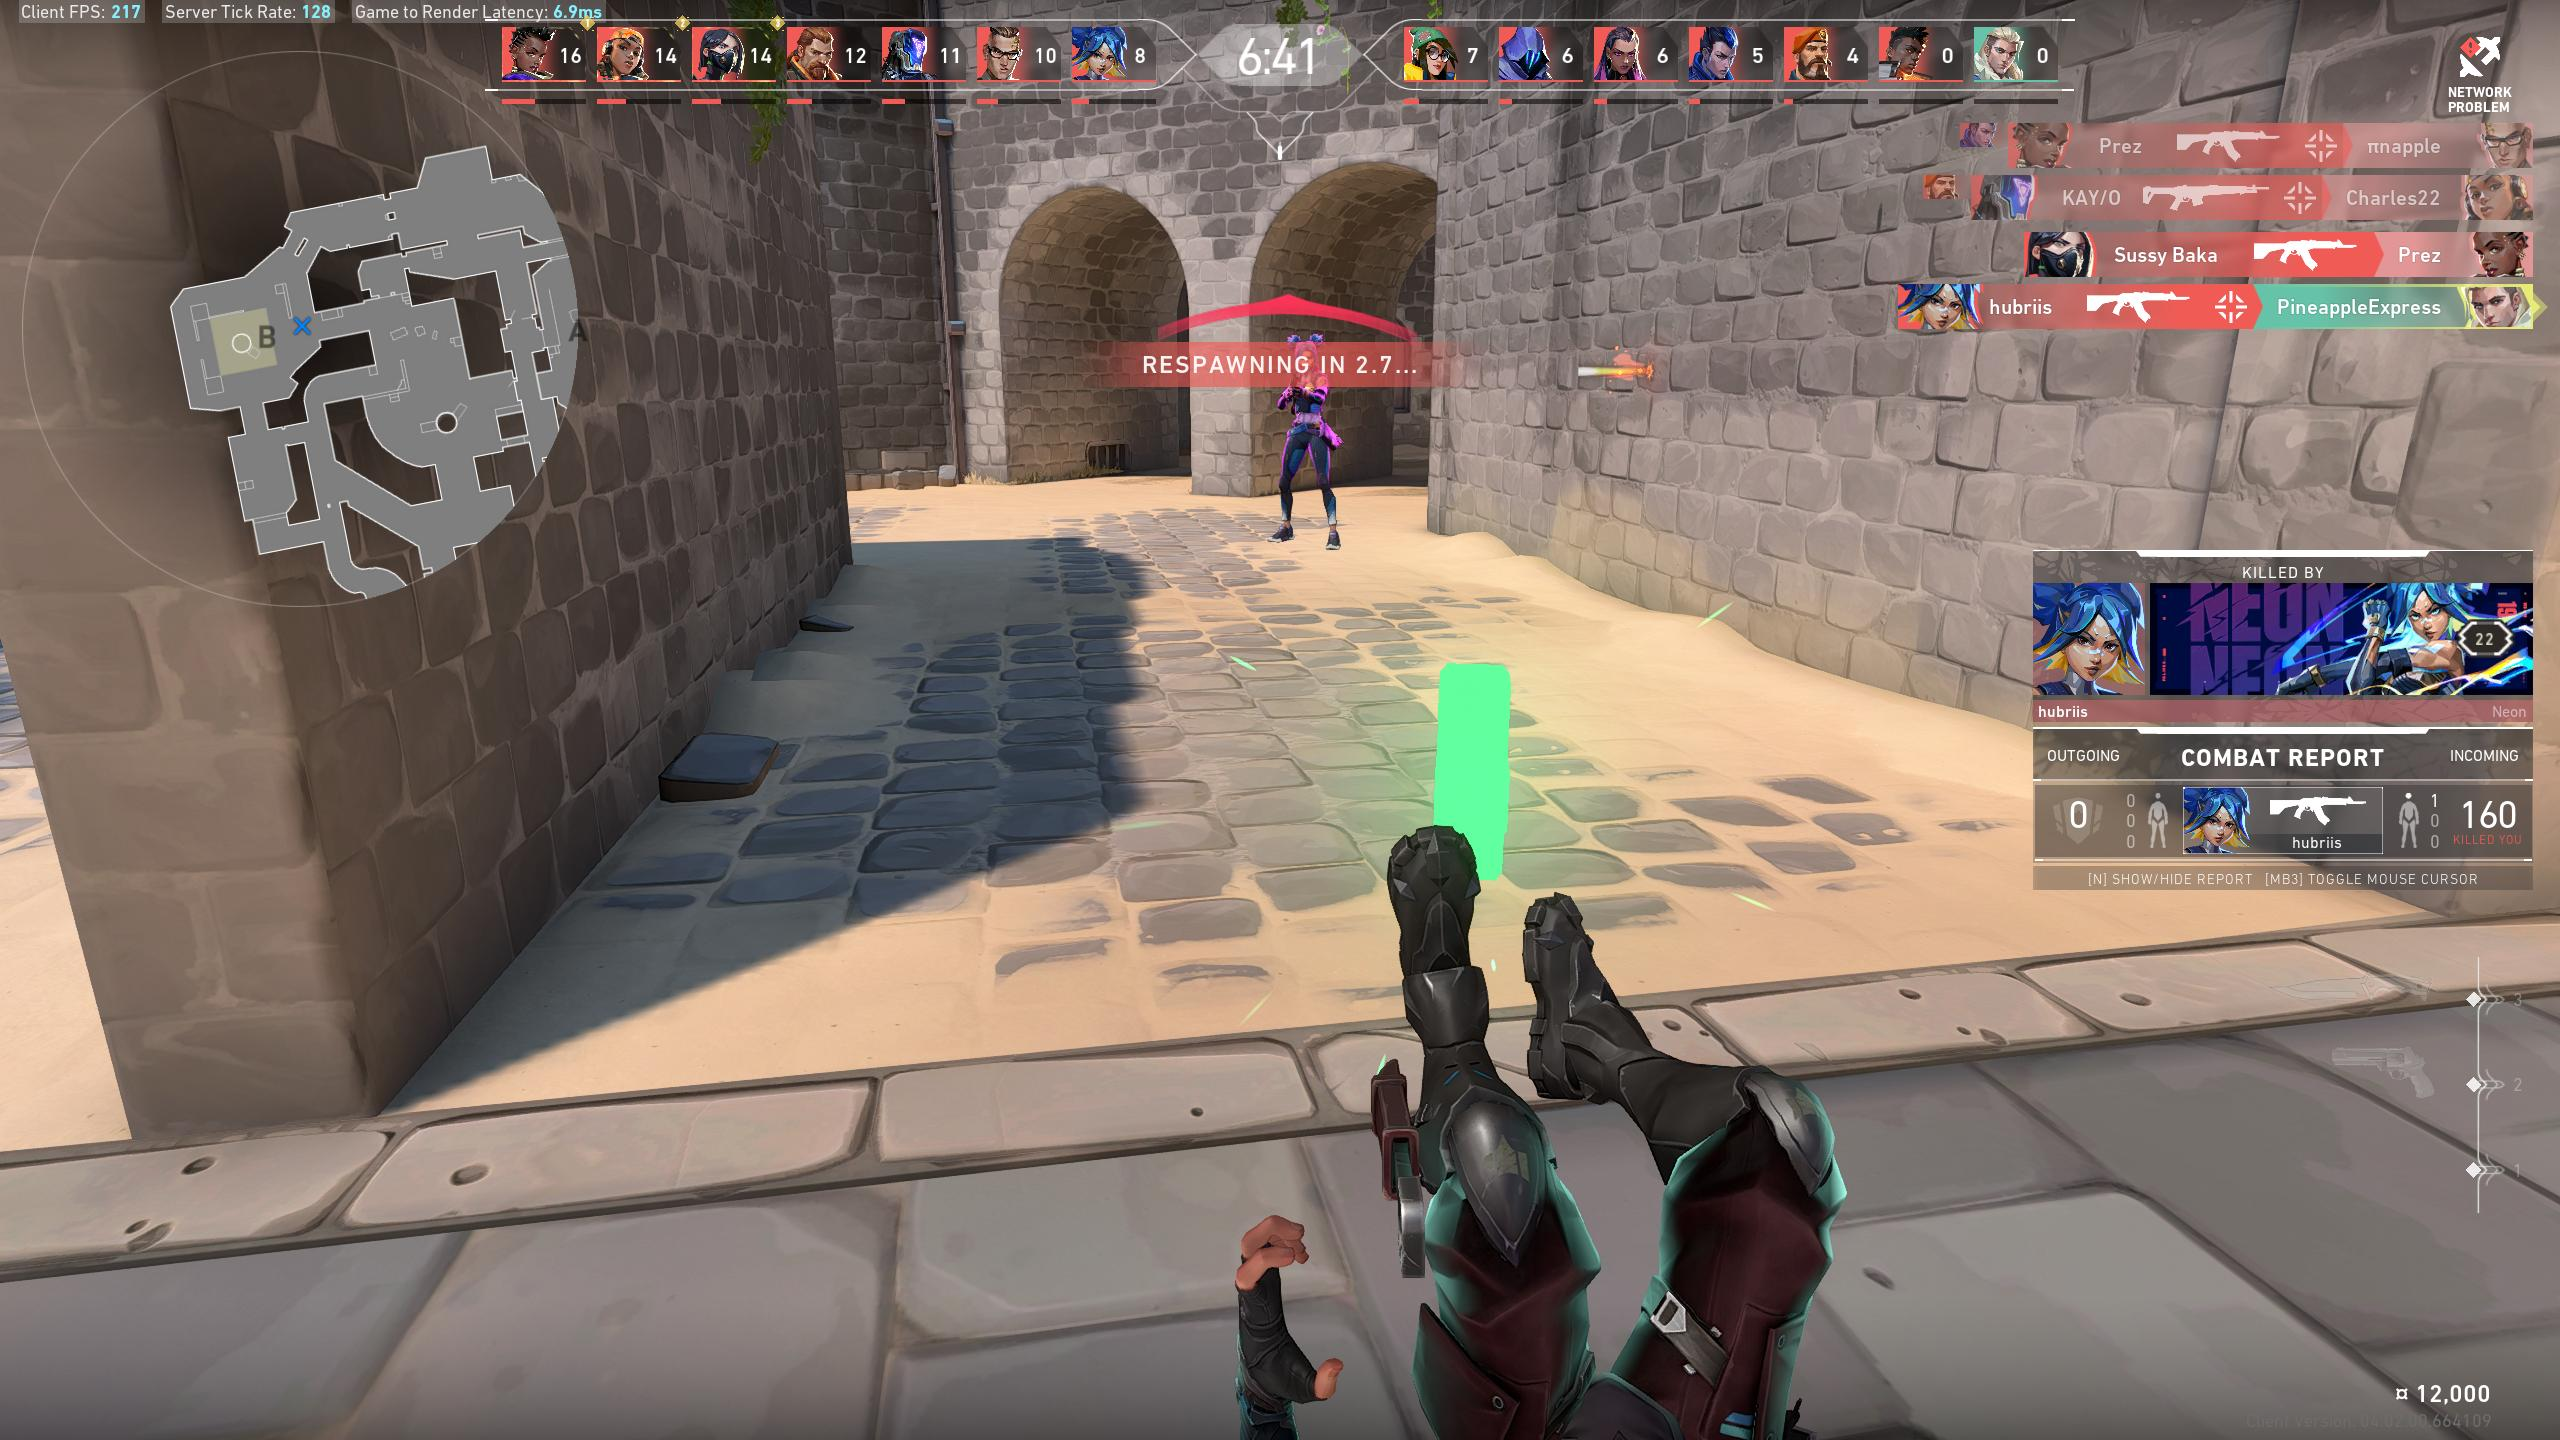enemyBody: (1292, 387, 1322, 424)
